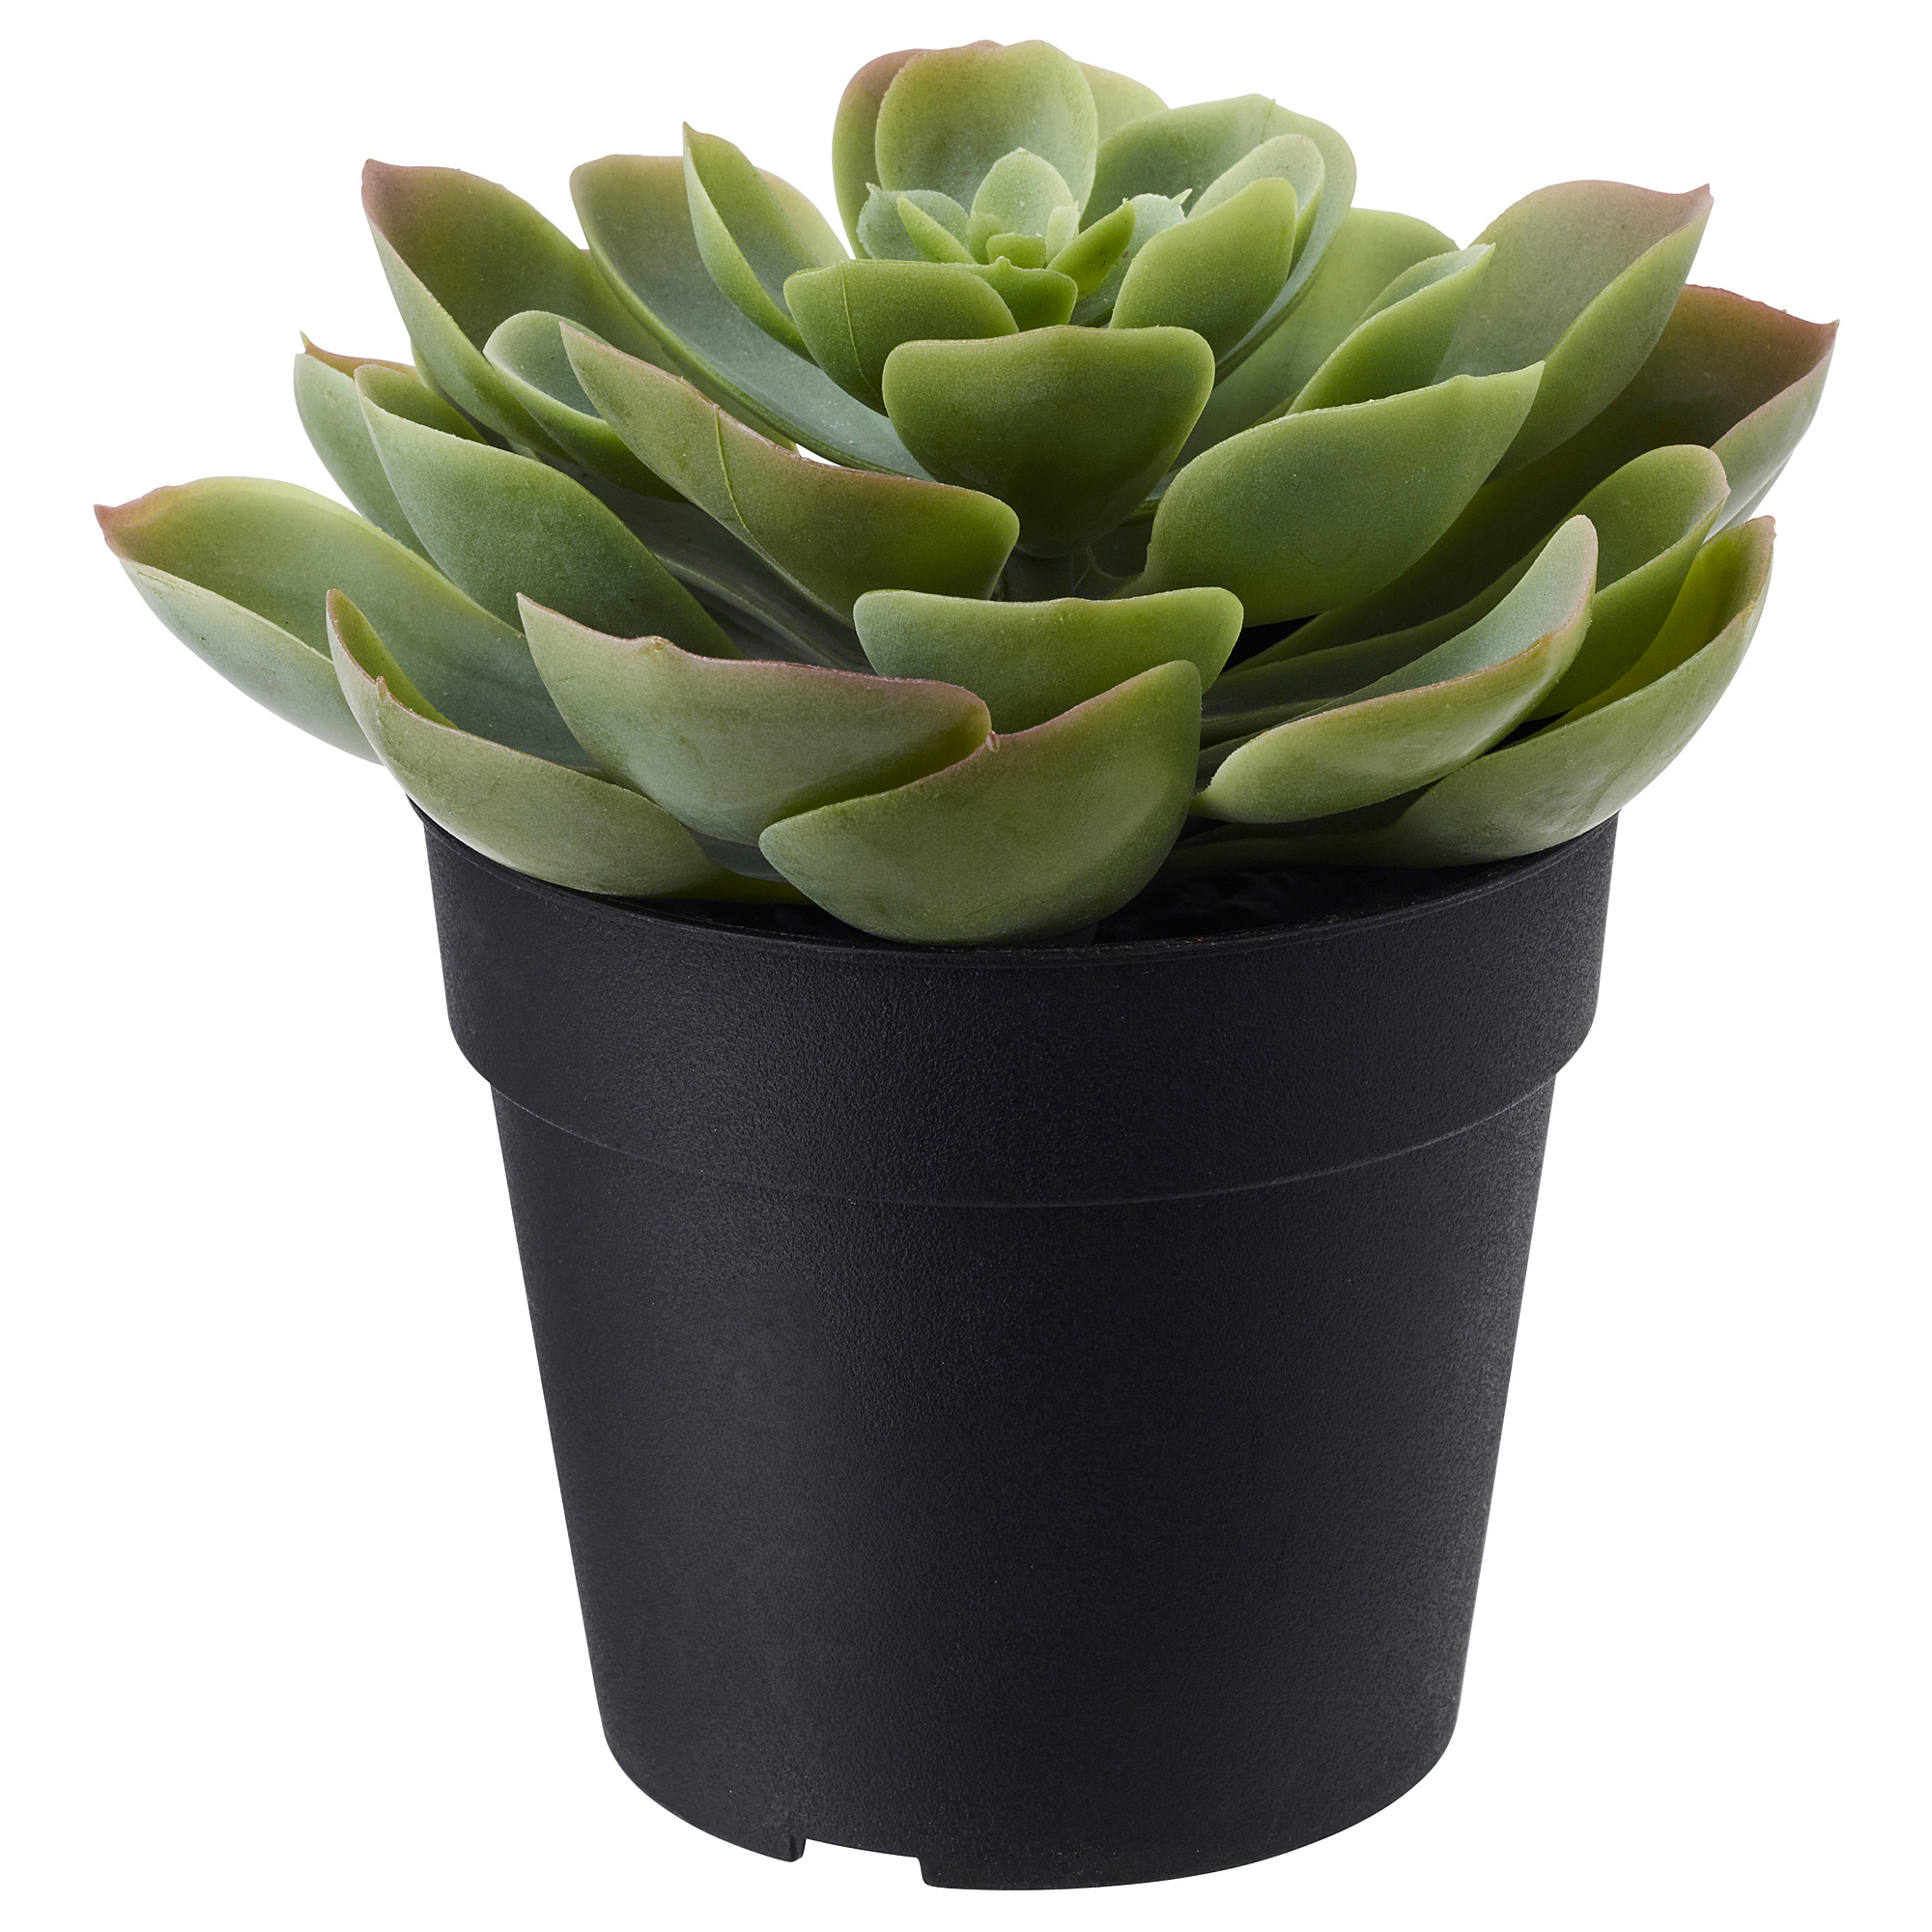tanaman: (97, 67, 1828, 1907)
